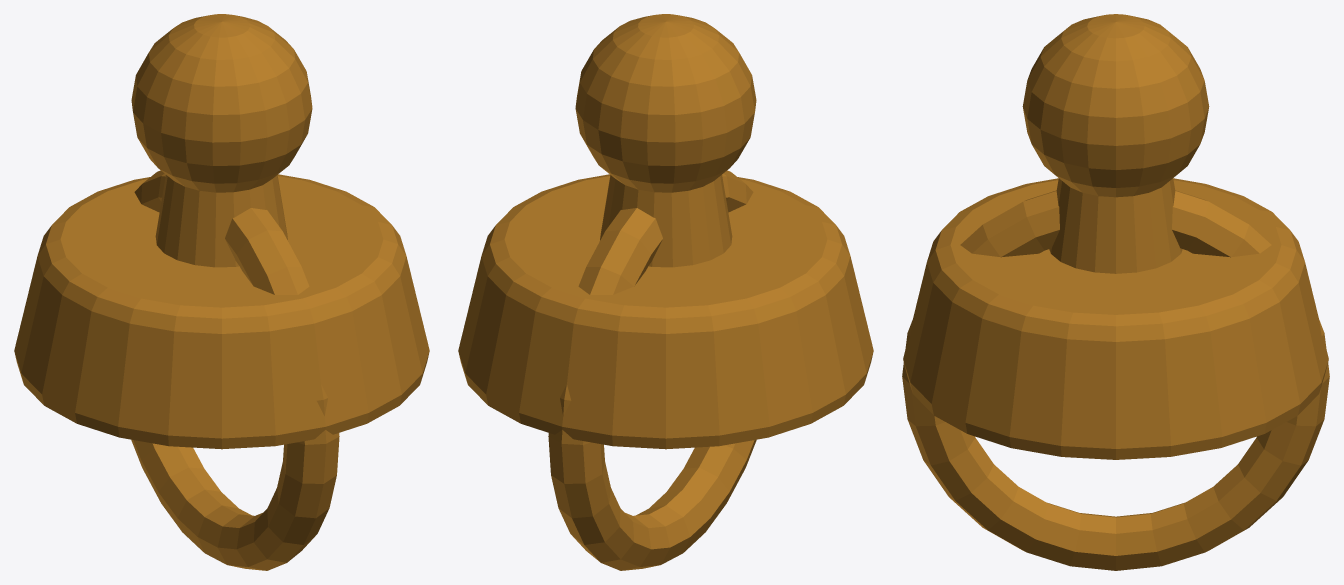
The model's file is chart-weight.glb.
The picture shows the model from 3 angles, left to right: view 1: azimuth 30°, elevation 25°; view 2: azimuth 150°, elevation 25°; view 3: azimuth 270°, elevation 25°; orthographic projection. The views are drawn at different scales.
Parts seen in each view (by area): view 1: ChartWeightBase, ChartWeightKnob, ChartWeightFoot, ChartWeightNeck; view 2: ChartWeightBase, ChartWeightKnob, ChartWeightFoot, ChartWeightNeck; view 3: ChartWeightBase, ChartWeightFoot, ChartWeightKnob, ChartWeightNeck.
Part boxes in pixels (bbox=[...]): ChartWeightBase: bbox=[14, 174, 429, 449]; ChartWeightKnob: bbox=[131, 14, 312, 192]; ChartWeightFoot: bbox=[131, 170, 339, 570]; ChartWeightNeck: bbox=[155, 175, 287, 267]; ChartWeightBase: bbox=[458, 174, 873, 449]; ChartWeightKnob: bbox=[575, 14, 756, 192]; ChartWeightFoot: bbox=[548, 170, 756, 570]; ChartWeightNeck: bbox=[600, 175, 732, 267]; ChartWeightBase: bbox=[903, 178, 1328, 459]; ChartWeightFoot: bbox=[902, 190, 1329, 570]; ChartWeightKnob: bbox=[1022, 14, 1209, 197]; ChartWeightNeck: bbox=[1049, 178, 1182, 273].
Size of the model in its own units: 0.2648 by 0.376 by 0.266.
